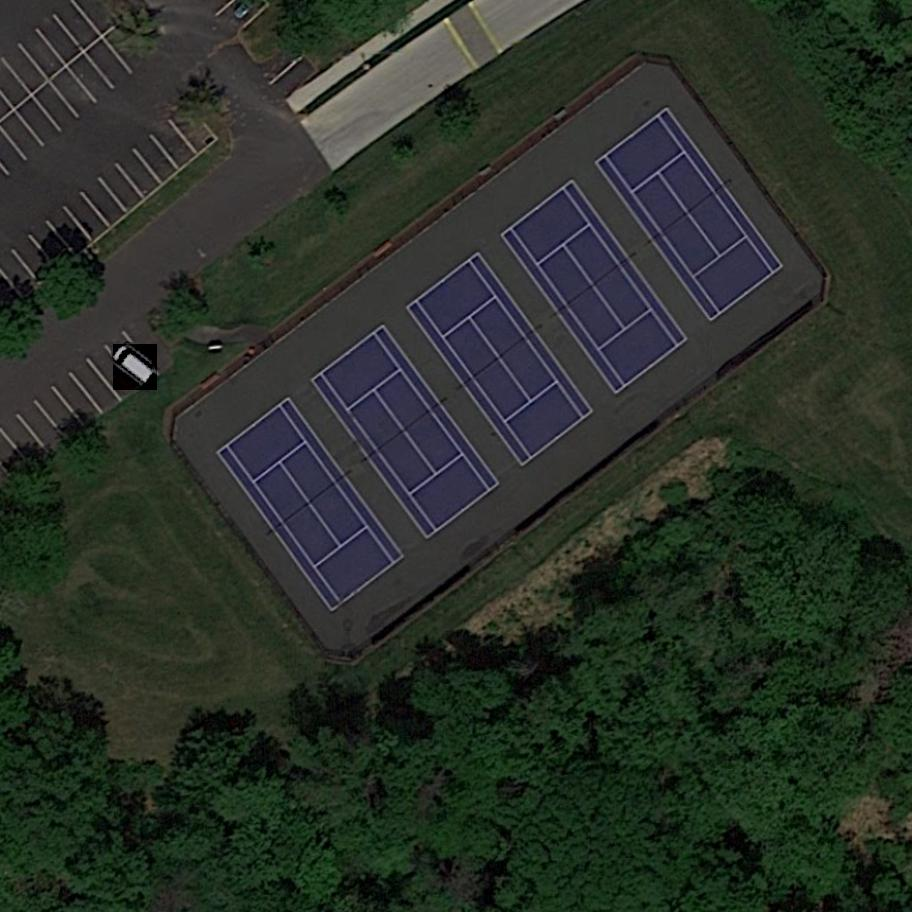large-vehicle: (111, 345, 160, 391)
